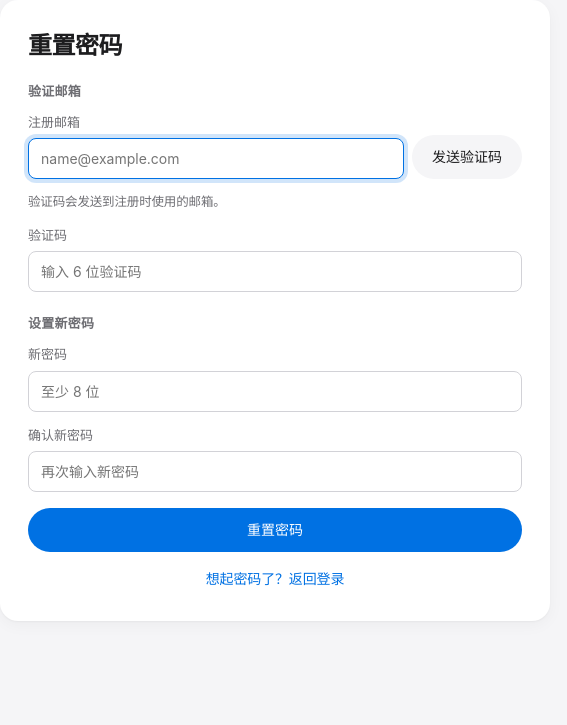
P02 忘记密码 › 邮件通道不可用时说明原因，不假装已发送
In the field labelled "注册邮箱": (216, 158) [28, 138, 404, 179], type "student@example.com"
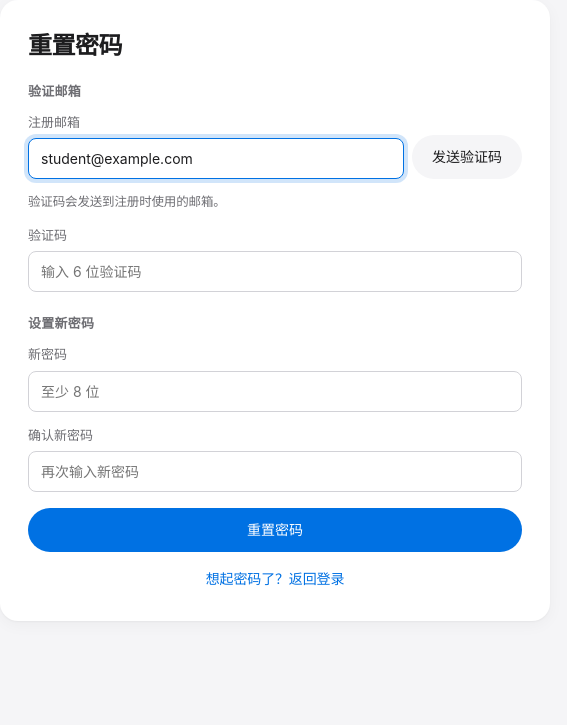
Click the button with test id "forgot-send-code": click(467, 156) [412, 134, 522, 178]
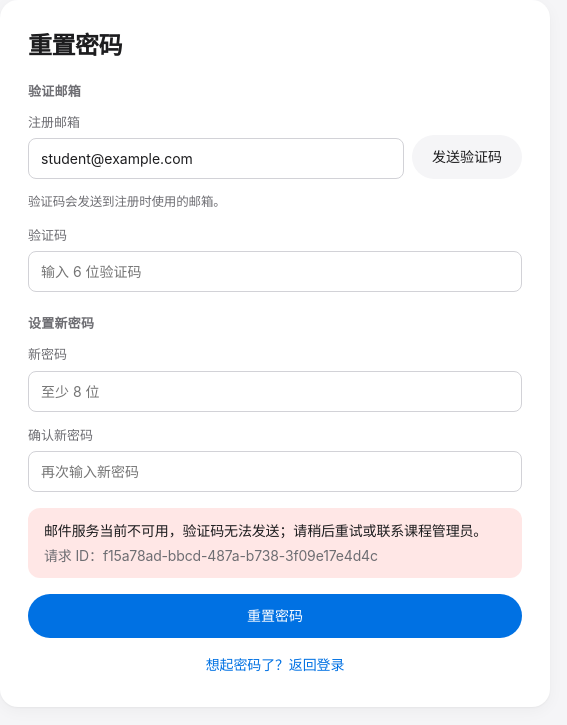
Result: the message with test id "forgot-error" shows "邮件服务当前不可用" at [44, 522, 487, 539]
